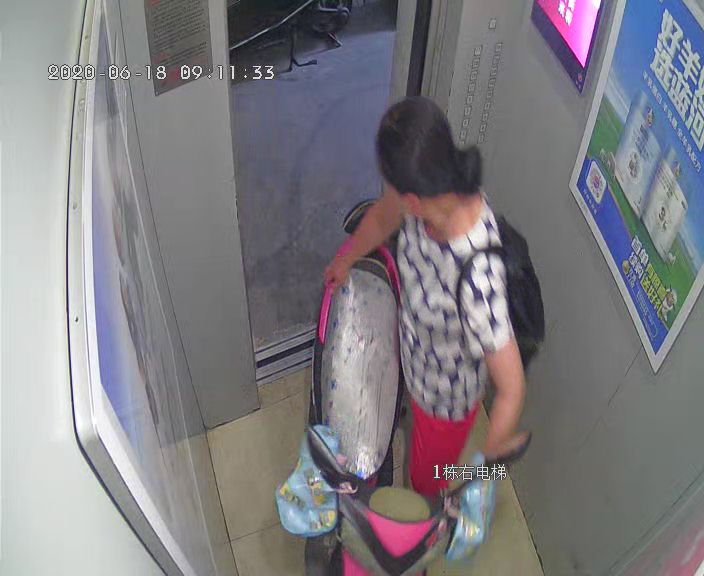Electric-bicycle: (307, 198, 531, 576)
